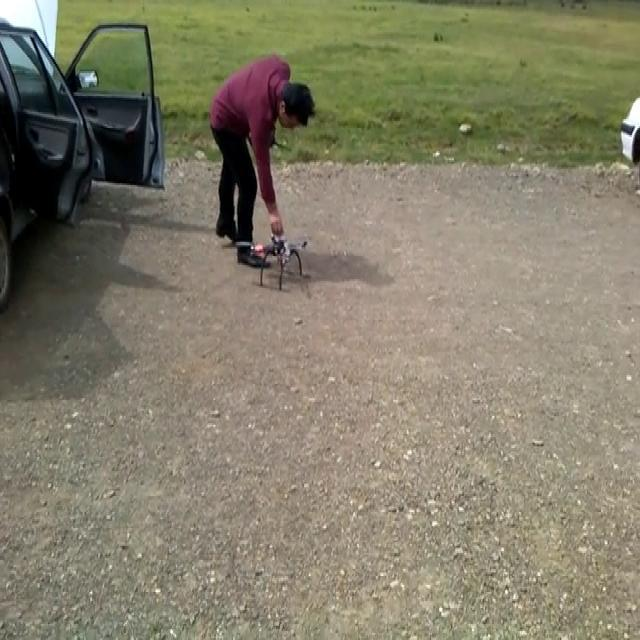drone: (235, 231, 310, 290)
